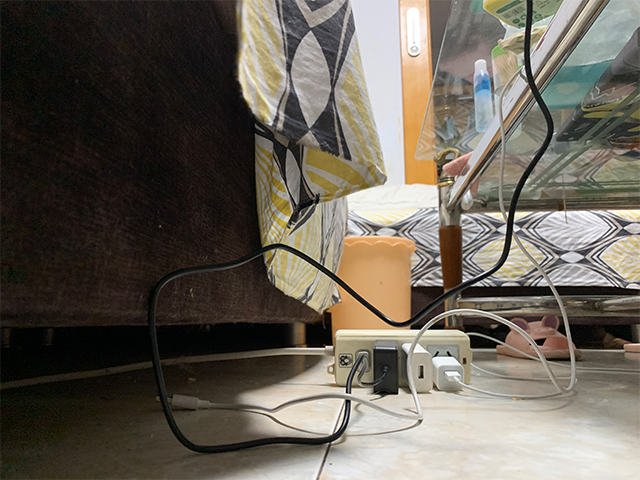slippers: (494, 313, 586, 361)
sofa: (1, 1, 640, 360)
table: (414, 1, 638, 335)
trashcan: (330, 235, 416, 346)
wire: (145, 235, 579, 455)
